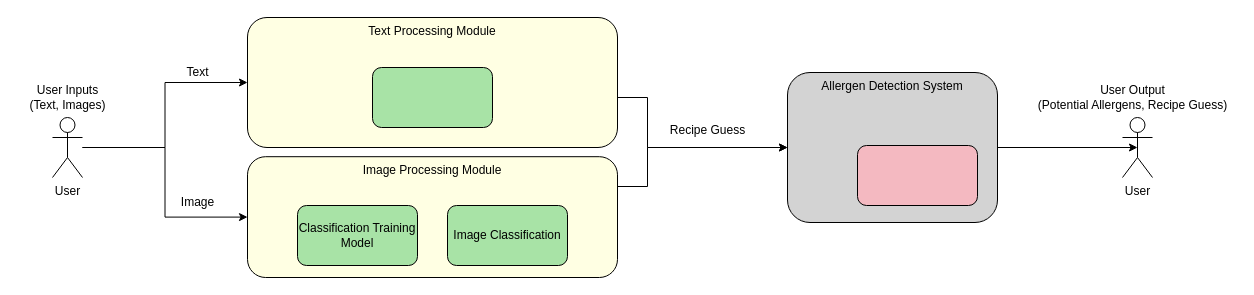
This 1254x295 diagram has some shape labels left out. Here are the shapes that lost their labels. From the top down, the centre of each, then its label:
the point at 432,97: Natural Language Processing (NLP)
the point at 917,175: Allergen Database
